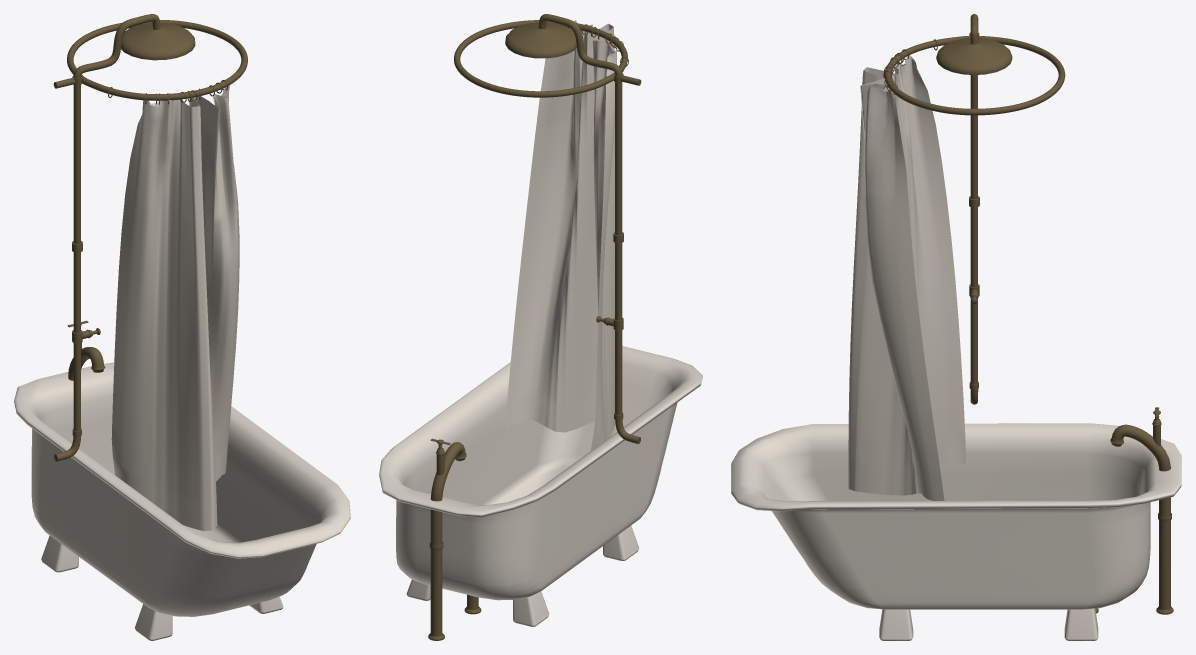
The model's file is AP_Bathtub_HB.fbx.
3 renders of one model, left to right at view 1: azimuth 30°, elevation 25°; view 2: azimuth 150°, elevation 25°; view 3: azimuth 270°, elevation 25°, orthographic. The views are drawn at different scales.
Parts seen in each view (by area): view 1: polySurface6, pCylinder14, pCylinder13; view 2: pCylinder14, polySurface6, pCylinder13; view 3: pCylinder14, polySurface6, pCylinder13.
Part boxes in pixels (box(x1,y1,x2,y2)): polySurface6: box(111, 85, 239, 530); pCylinder14: box(14, 320, 350, 640); pCylinder13: box(53, 14, 247, 461); pCylinder14: box(379, 346, 702, 640); polySurface6: box(505, 20, 617, 450); pCylinder13: box(454, 14, 641, 443); pCylinder14: box(731, 407, 1181, 640); polySurface6: box(848, 55, 966, 500); pCylinder13: box(884, 14, 1065, 404).
Size of the model in its own units: 0.7559 by 2.1 by 1.49.
